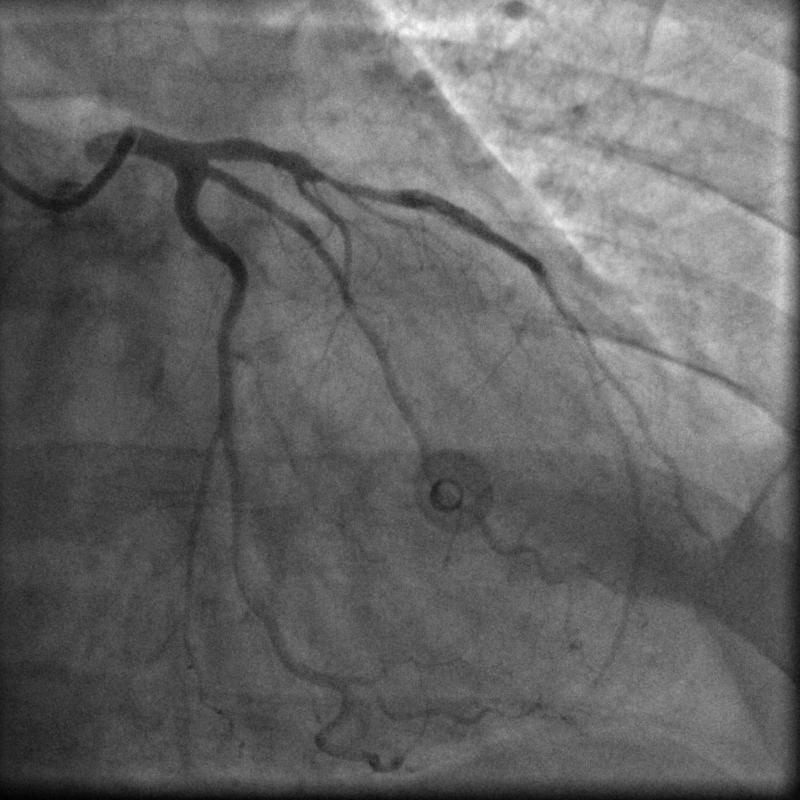Stenosis: (309, 164, 404, 211)
